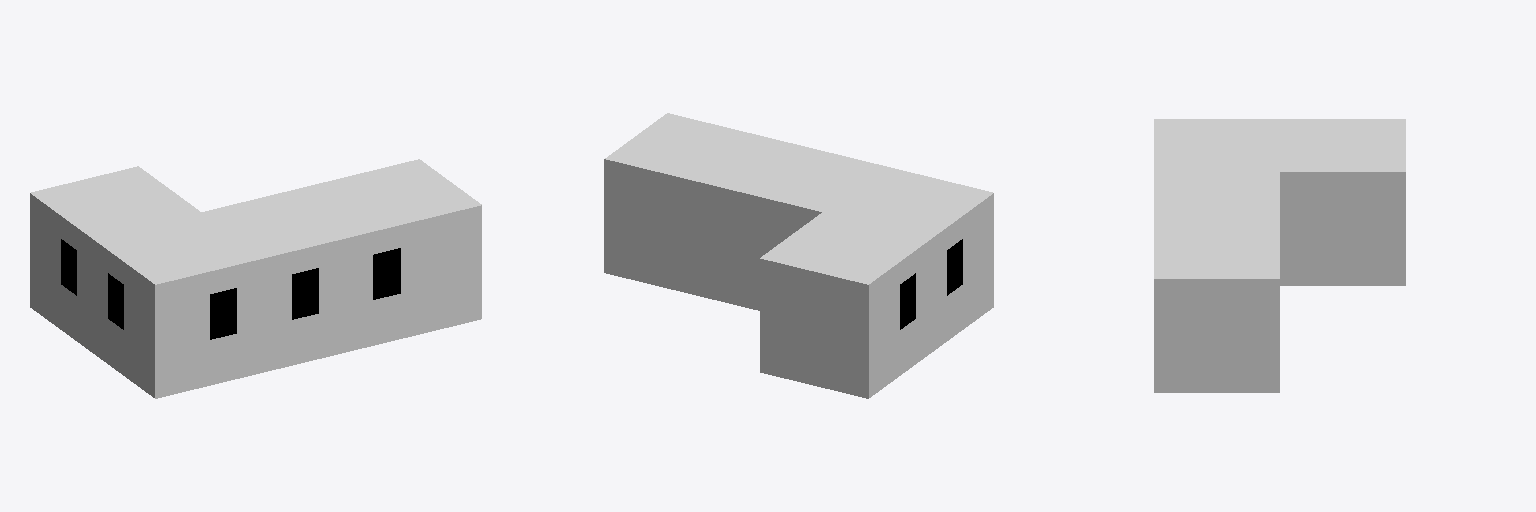
The model's file is CaseStudy2_small_sensors_1944.obj.
3 views of the same model, side by side, from view 1: azimuth 30°, elevation 25°; view 2: azimuth 150°, elevation 25°; view 3: azimuth 270°, elevation 25° (orthographic).
Size of the model in its own units: 360 by 120 by 240.